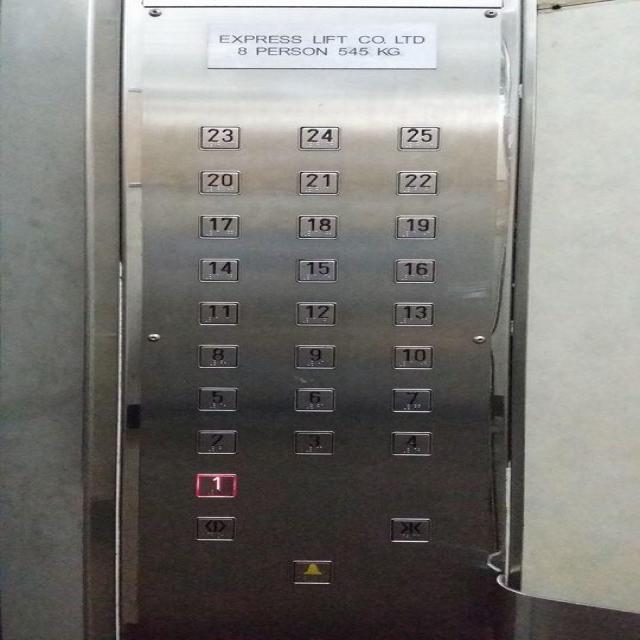1: (191, 472, 238, 499)
10: (385, 343, 434, 370)
11: (193, 298, 238, 325)
12: (289, 298, 340, 327)
13: (390, 299, 440, 329)
14: (191, 255, 245, 286)
15: (292, 257, 344, 284)
16: (386, 253, 441, 286)
17: (192, 212, 245, 242)
18: (288, 213, 340, 242)
19: (386, 211, 442, 242)
2: (192, 430, 239, 455)
20: (192, 170, 242, 195)
21: (292, 166, 342, 196)
22: (386, 167, 442, 197)
23: (193, 124, 244, 150)
24: (293, 125, 345, 153)
25: (394, 125, 442, 152)
3: (283, 428, 338, 459)
4: (383, 430, 437, 459)
5: (192, 384, 238, 410)
6: (287, 387, 338, 413)
7: (384, 387, 434, 413)
8: (194, 341, 238, 371)
9: (289, 342, 338, 370)
alarm: (284, 556, 336, 589)
close: (389, 515, 431, 545)
open: (190, 515, 240, 542)
